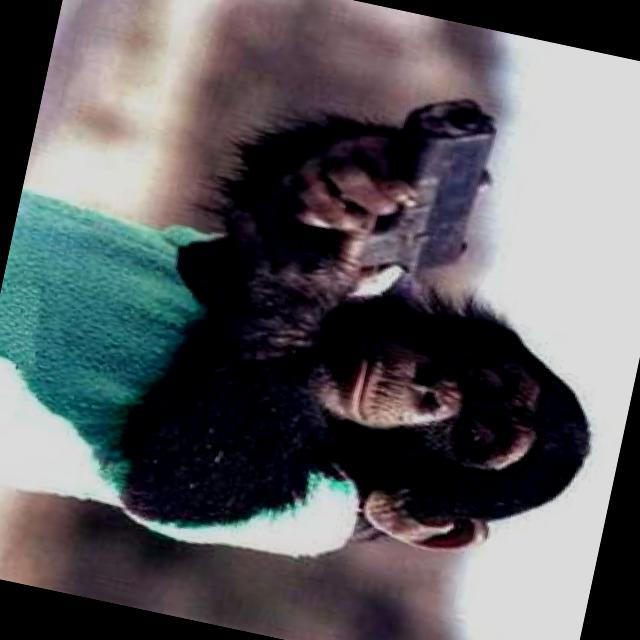handgun: (348, 80, 507, 292)
